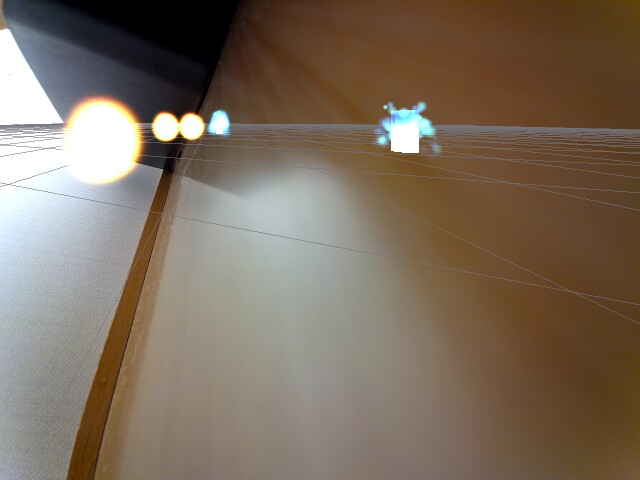firebig: (52, 88, 144, 194)
